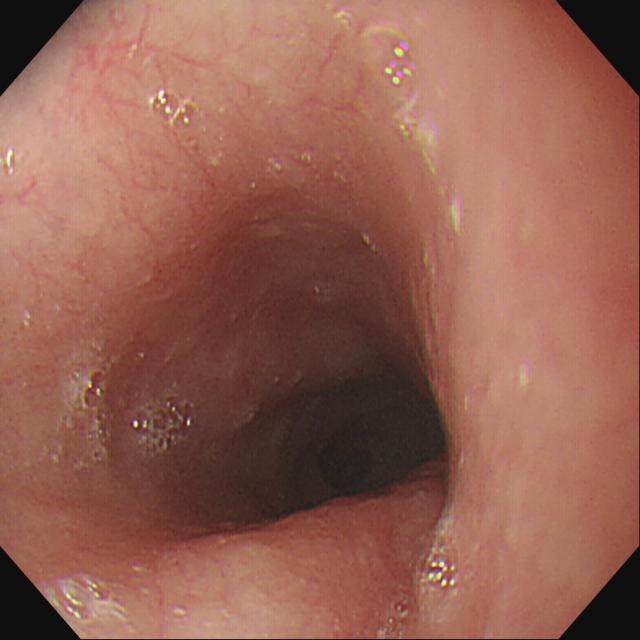A: (228, 492, 391, 610)
E: (297, 356, 442, 506)
T: (68, 359, 202, 459), (337, 10, 428, 136), (48, 574, 130, 625), (423, 523, 463, 591), (152, 90, 206, 132), (2, 150, 23, 180)
